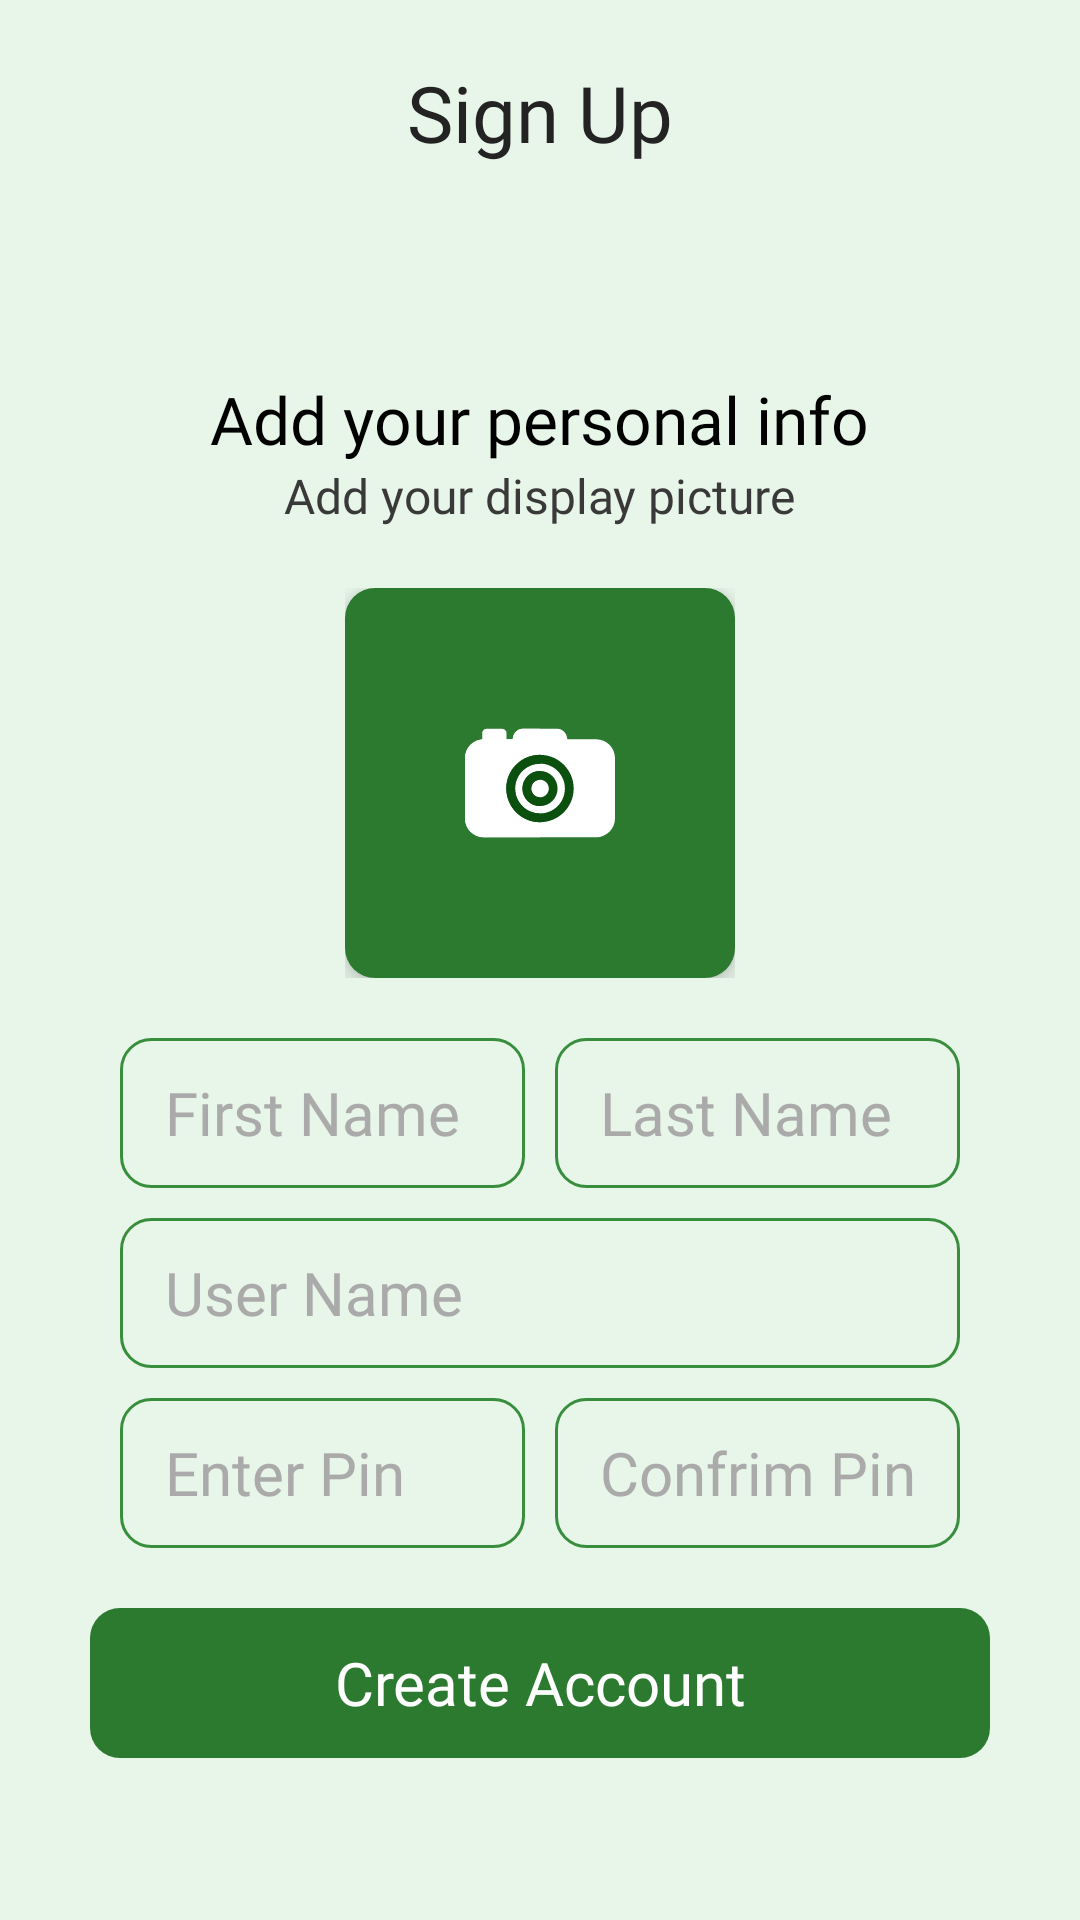

Screen size 1080x1920. Icon name, then its box in pixels as (x1, y1, x2, y2):
camera: (465, 728, 615, 838)
